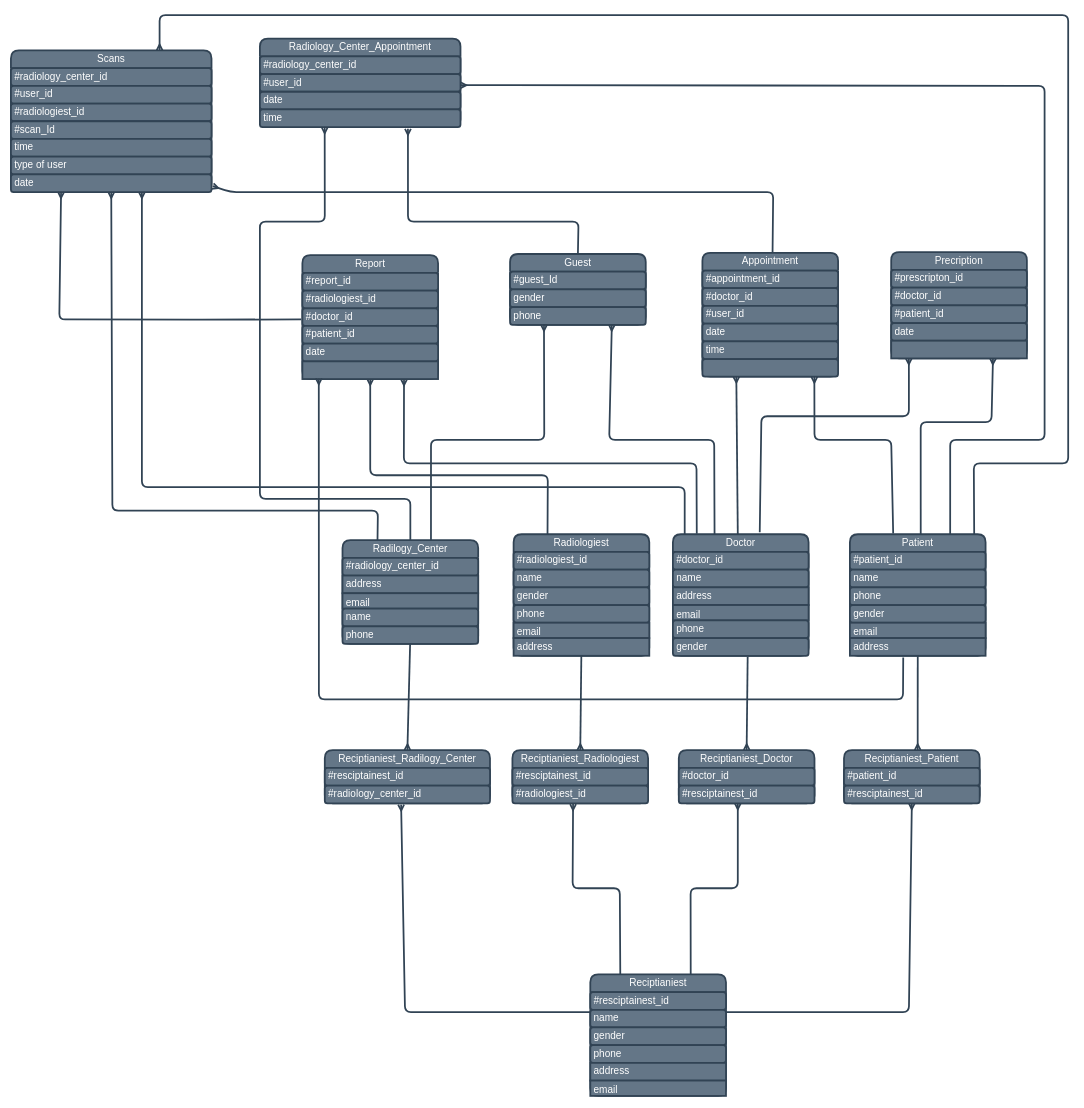
Image size: 1084x1108. Some labels were removed from this diagram. The centre of each missing label's shape, as x and y in pixels:
details: the point at 370,370
drug: the point at 958,349
type: the point at 770,367
